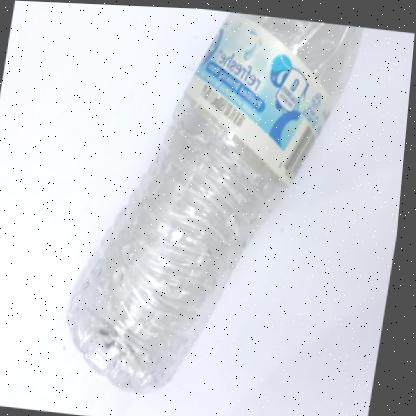Plastic: (73, 9, 363, 391)
